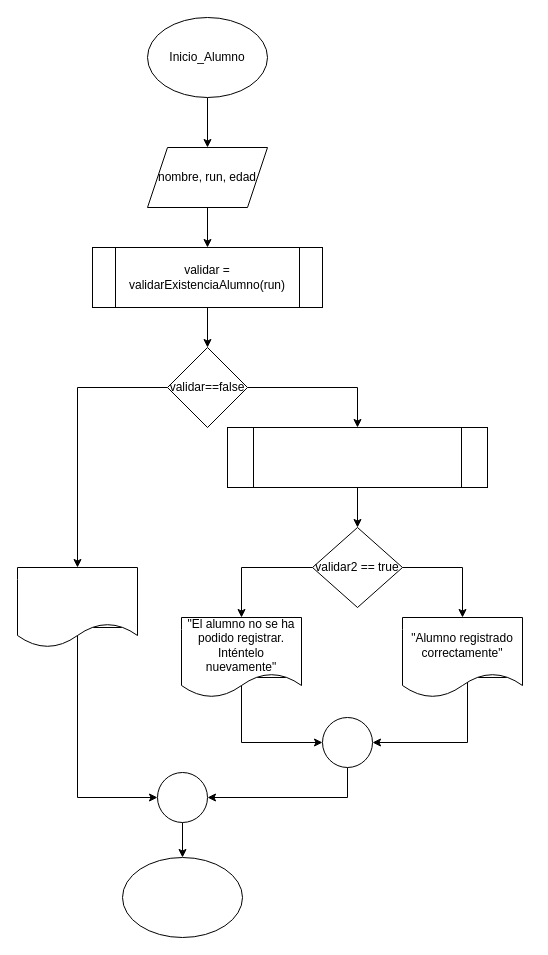
Some shapes in this 548 by 955 pixel diagram are drawn without their labels. The shapes that lost their labels are listed below. From the top down, each one's box as (x1, y1, x2, y2) in pixels, then its label:
(226, 426, 488, 488): validar2 = registrarAlumno(nombre, run, edad)
(16, 566, 138, 648): "El alumno ya se encuentra registrado"
(122, 856, 242, 938): Fin
